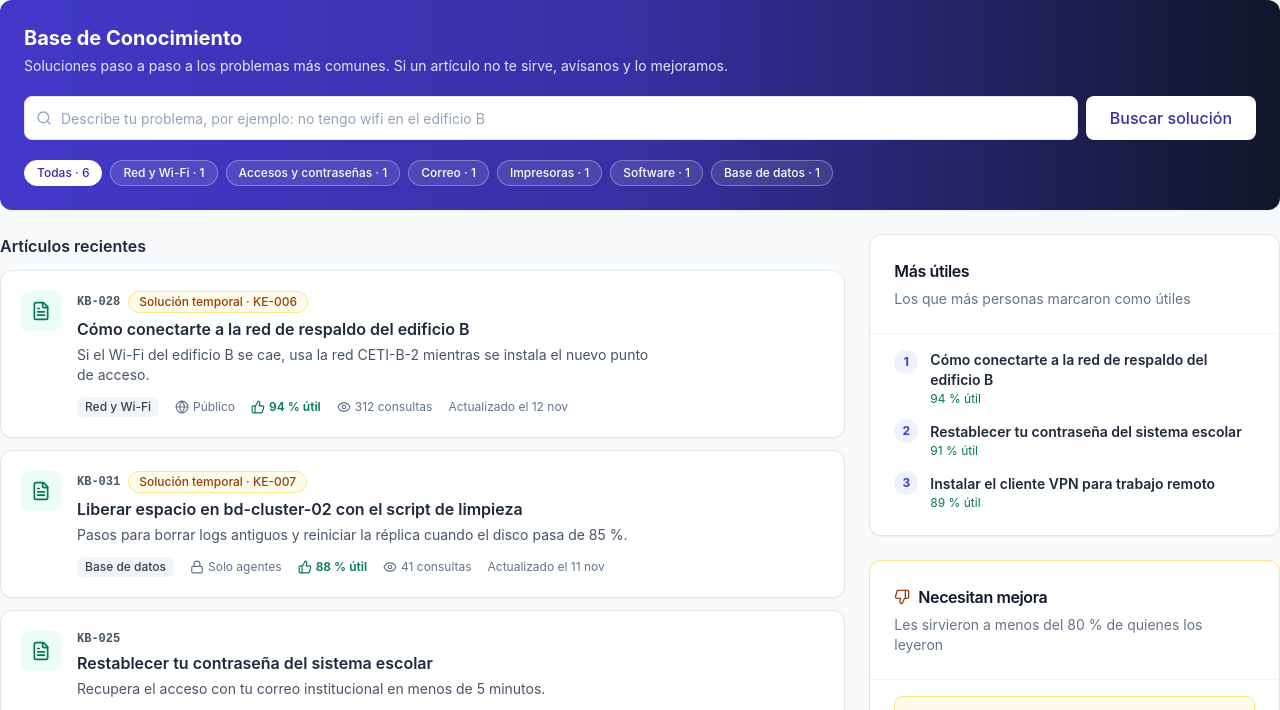
Scenario: KnowledgePage › filtra por etiqueta y ofrece limpiar la búsqueda cuando no hay resultados
Expected: the heading "Artículos recientes" is shown, [0,236,146,256]
Click the button "Impresoras · 1" at (550, 173), box [497,160,602,186]
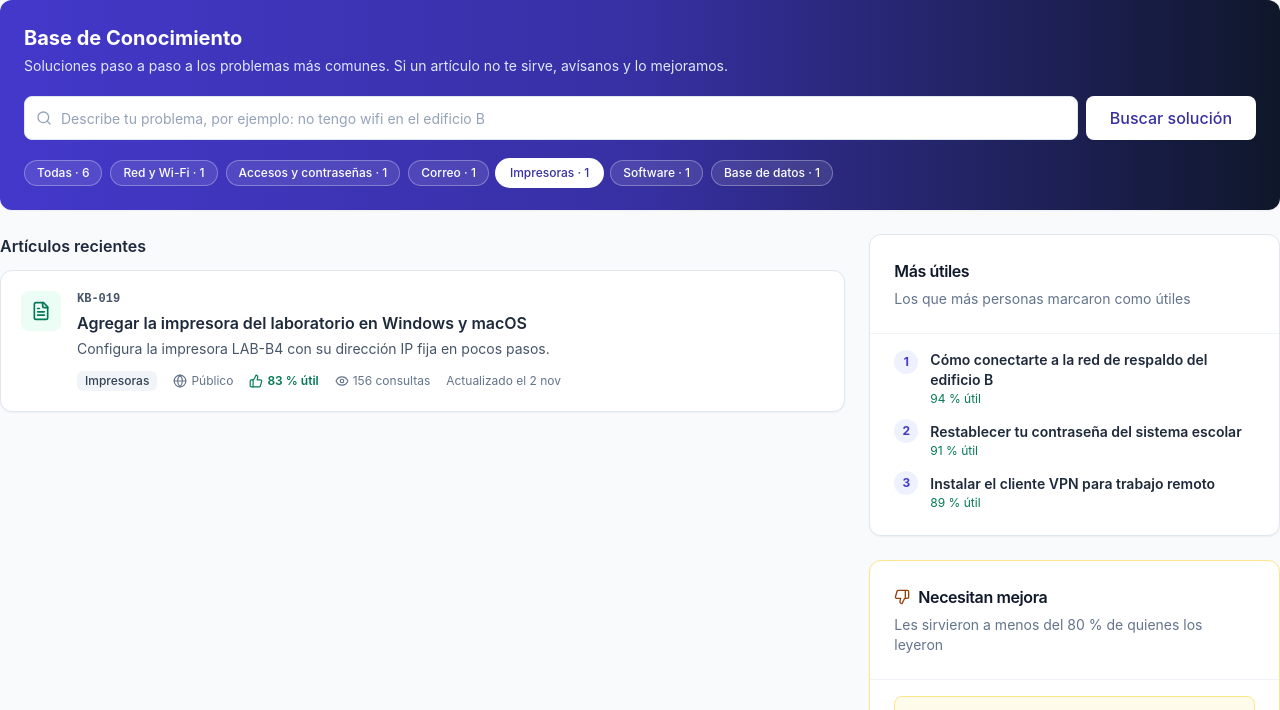
Now the button "Impresoras · 1" is pressed, box [497,160,602,186]
Replace the text in the search field named "Buscar en la Base de Conocimiento" with "vpn" at (551, 118), box [24,96,1078,140]
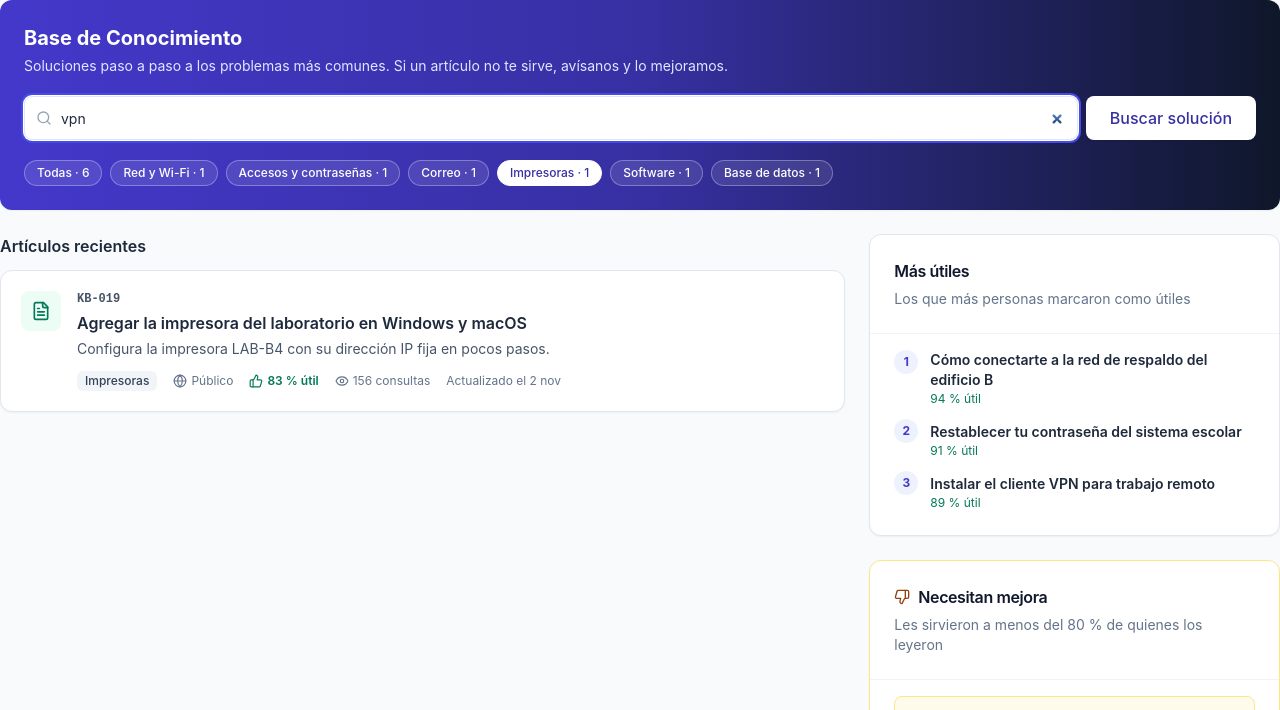
Click the button "Buscar solución" at (1171, 118), box [1086,96,1256,140]
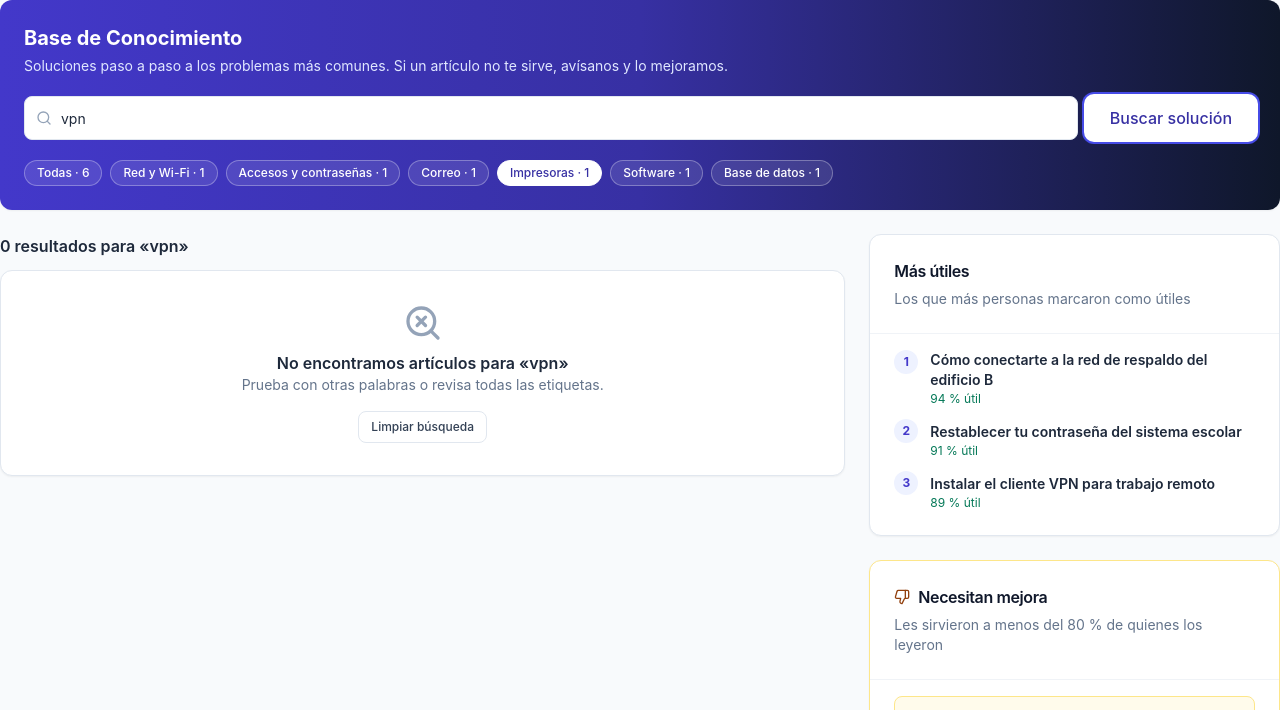
Now the text "No encontramos artículos para «vpn»" is shown, box [277,351,569,375]
Click the button "Limpiar búsqueda" at (423, 427), box [358,411,487,443]
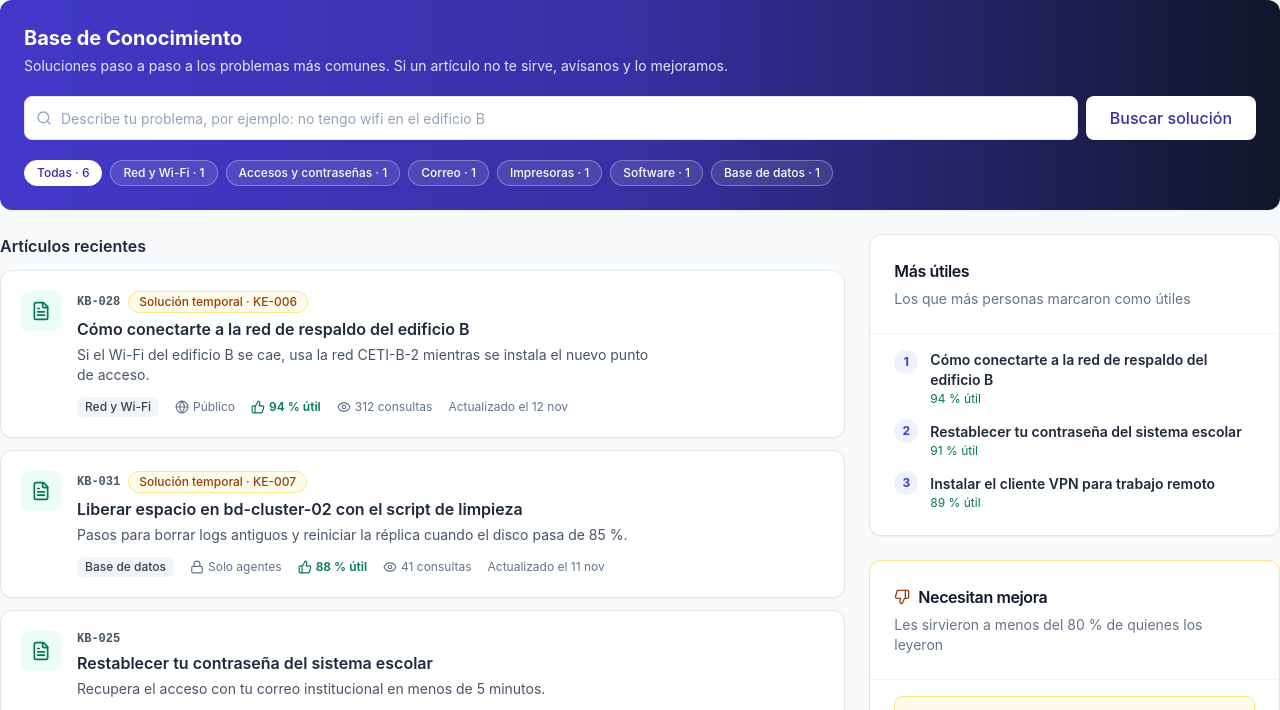
Now the heading "Artículos recientes" is shown, box [0,236,146,256]
